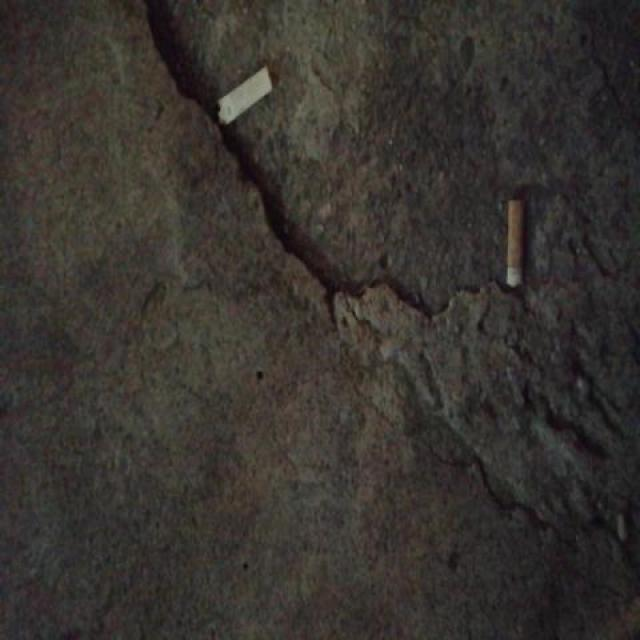non-organic waste: (214, 61, 274, 132), (502, 192, 527, 289)
